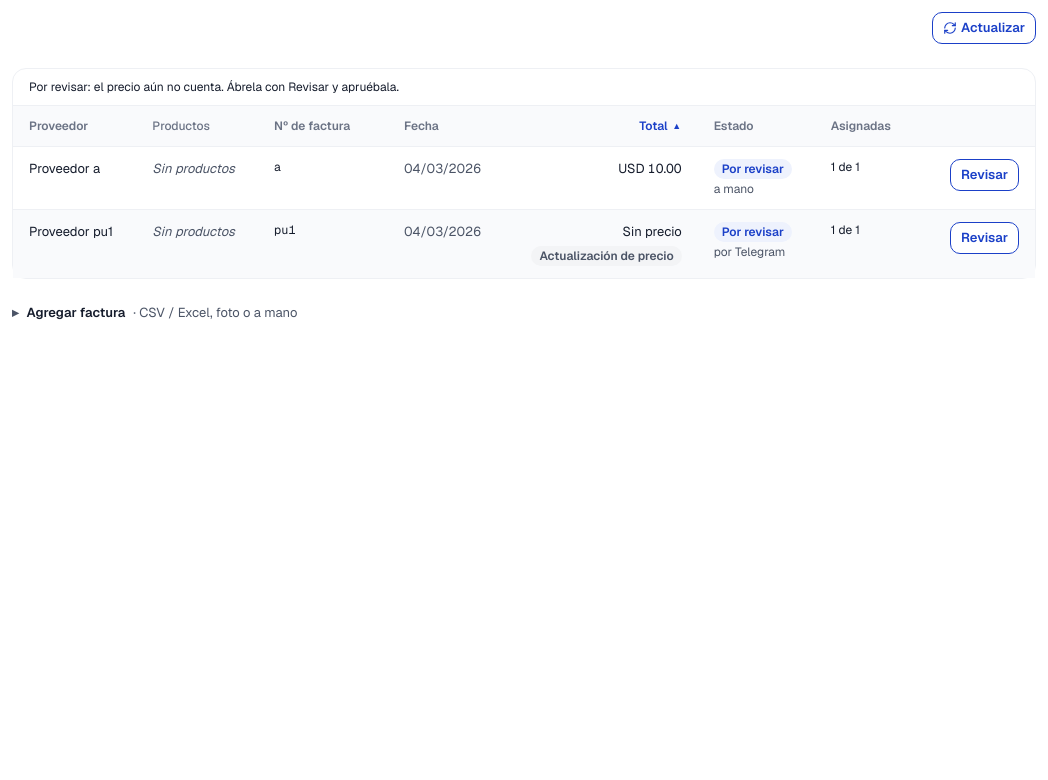
Test: Review panel › hides the Total, keeps line prices, says «Aprobar precios»; message after posting and the row leaves
Click the button "Revisar" in the row of "Proveedor pu1".
click(985, 238)  # box [950,222,1019,254]
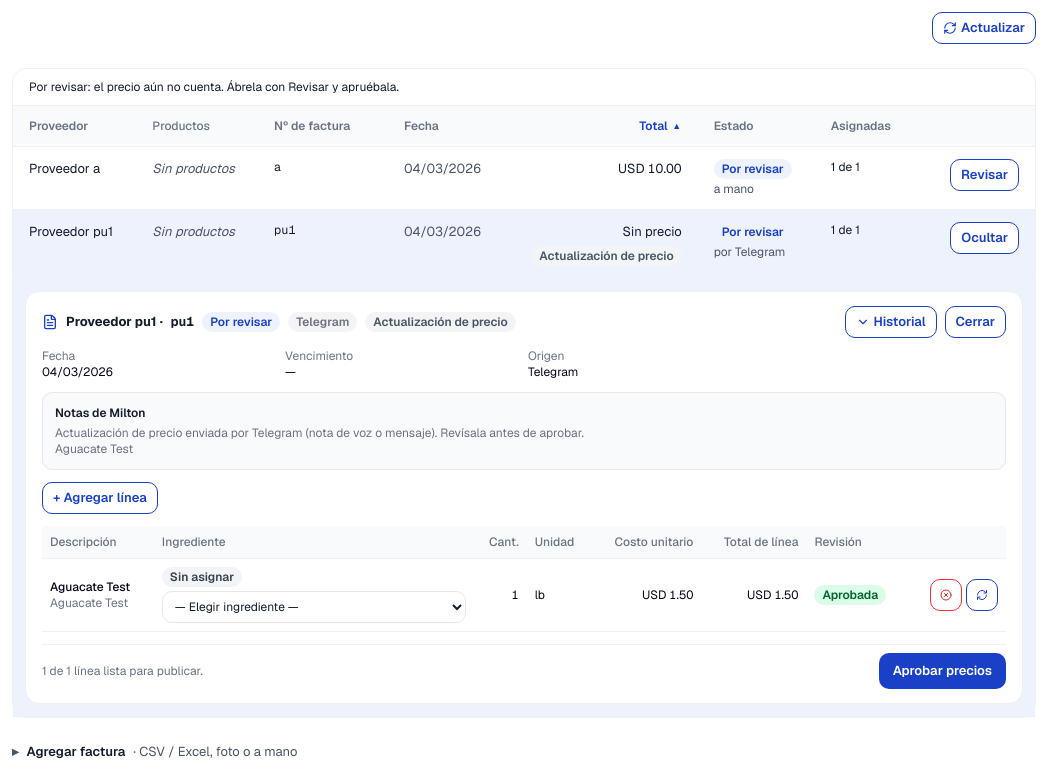
Check: the row with test id "invoice-review-row" shows "1.50", box [642,586,693,602]
Click the button "Aprobar precios".
click(942, 670)  # box [879,652,1006,688]
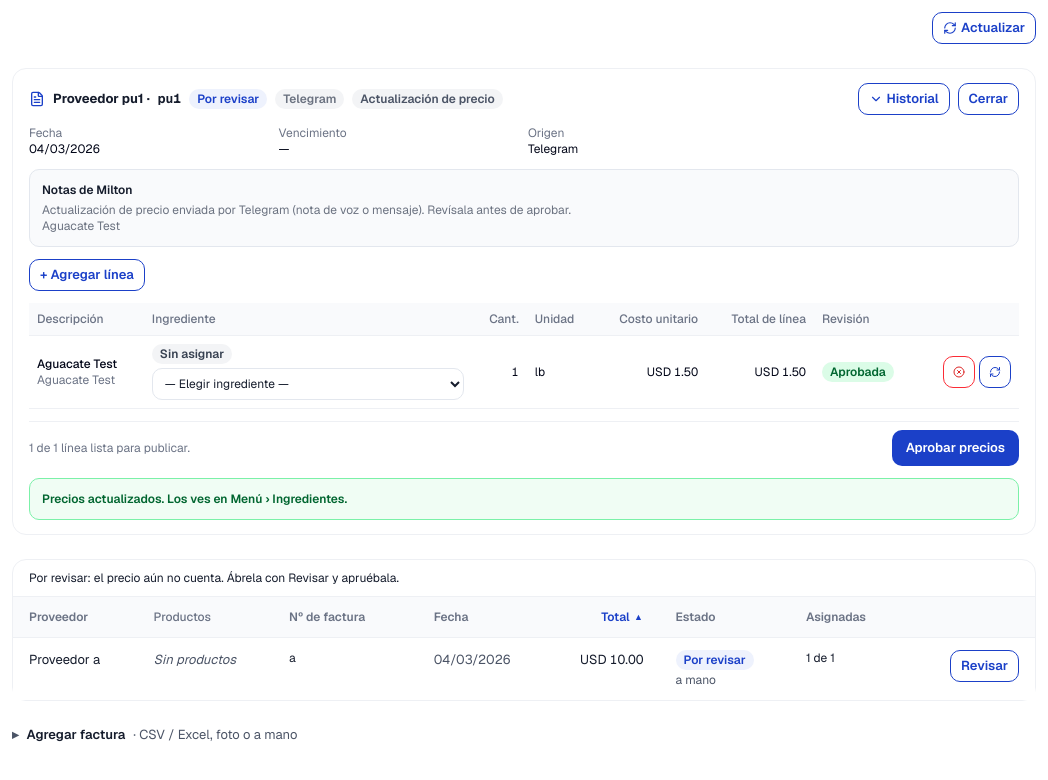
Check: the text with test id "price-update-posted" reads "Precios actualizados. Los ves en Menú › Ingredientes.", box [42,491,347,507]
Click the button "Cerrar".
click(988, 99)  # box [958,83,1019,115]
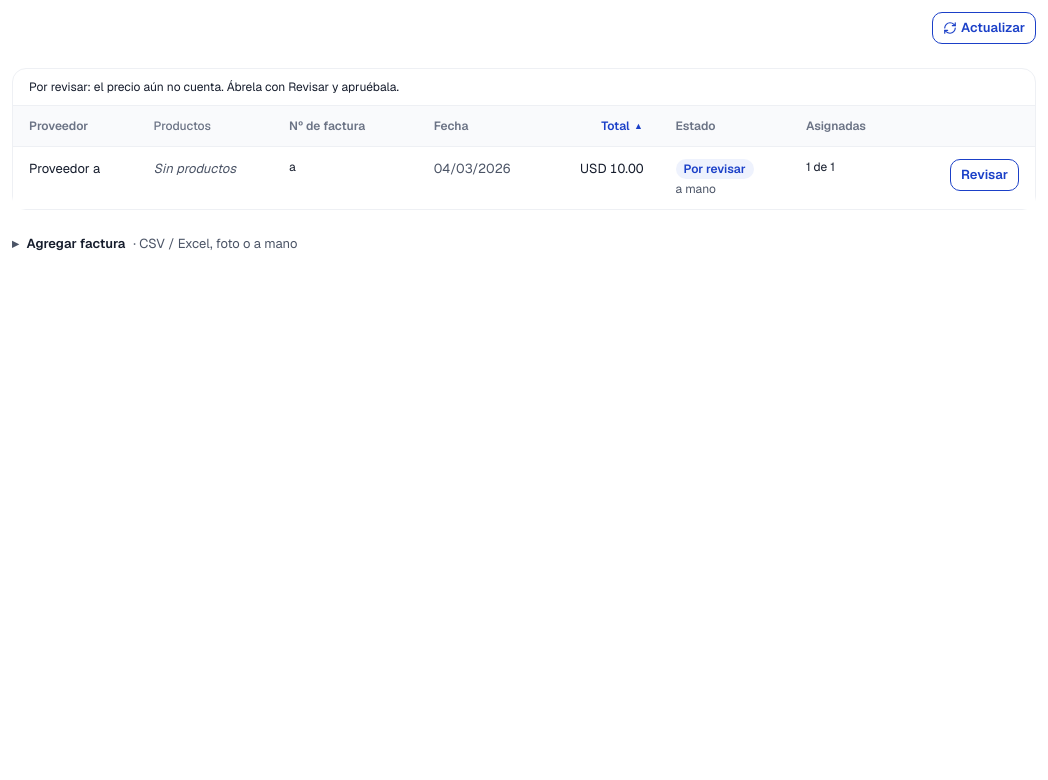
Check: the text with test id "price-update-posted" is gone
